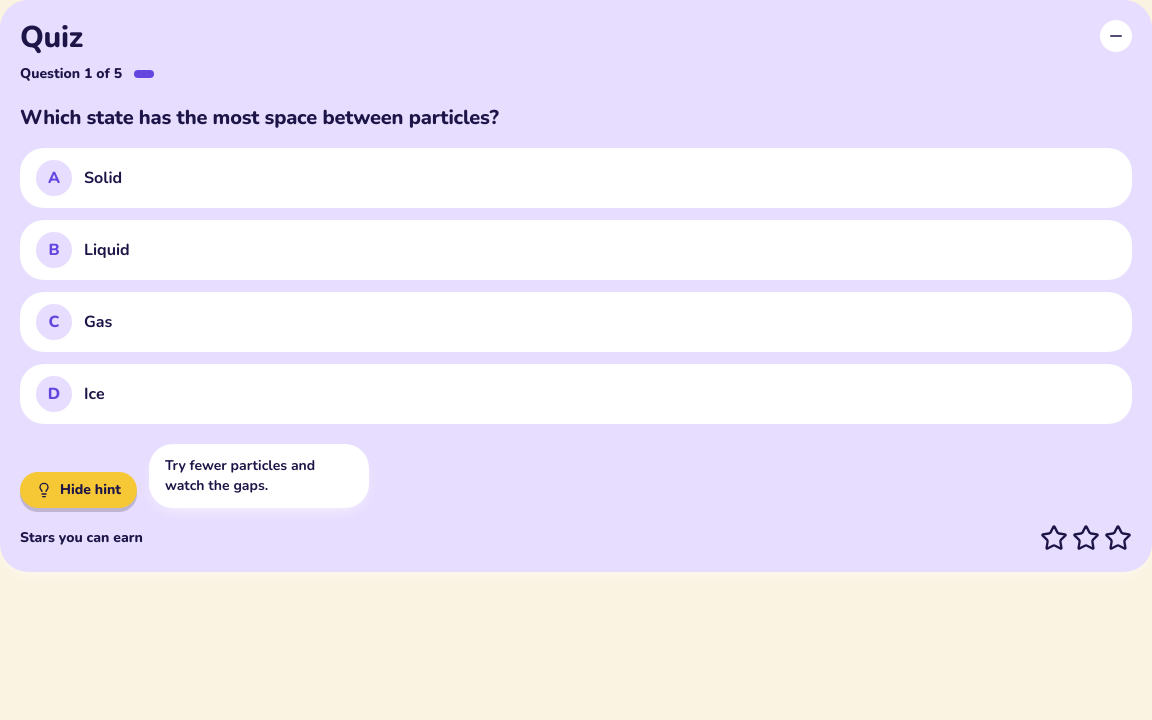
Test: hint toggle › hides the hint when 'Hide hint' is clicked
Click the button "Hide hint": [78, 490] box [20,472,137,508]
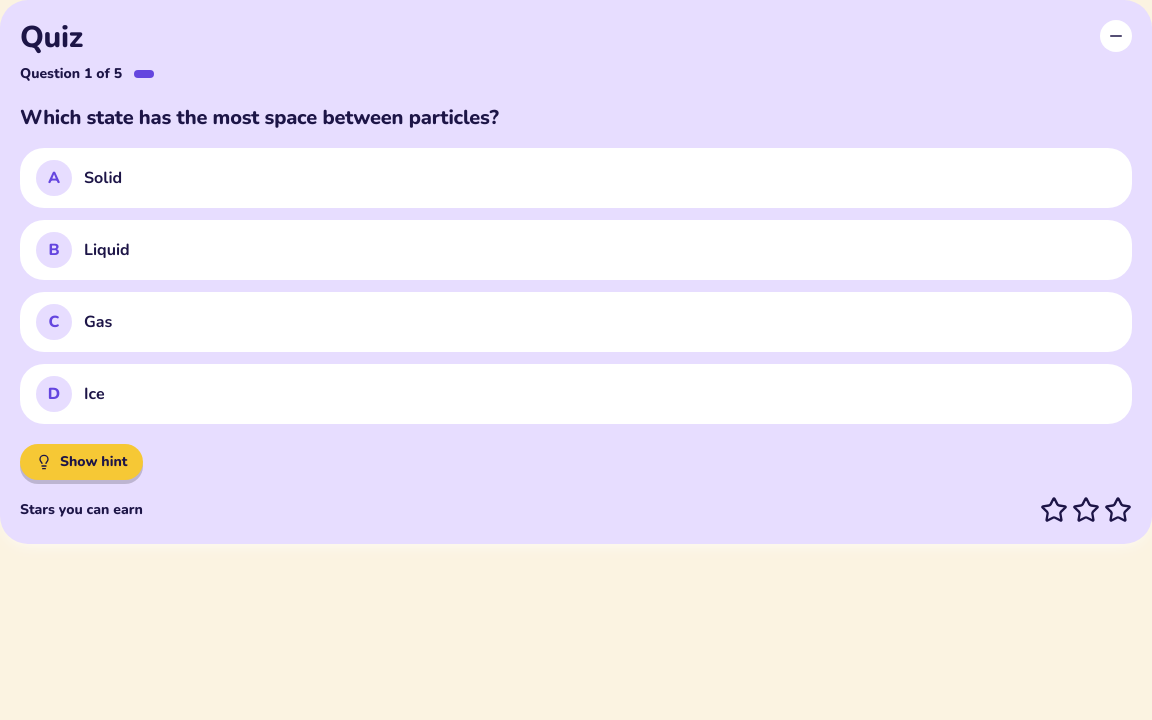
Check: the text "Try fewer particles and watch the gaps." is gone
